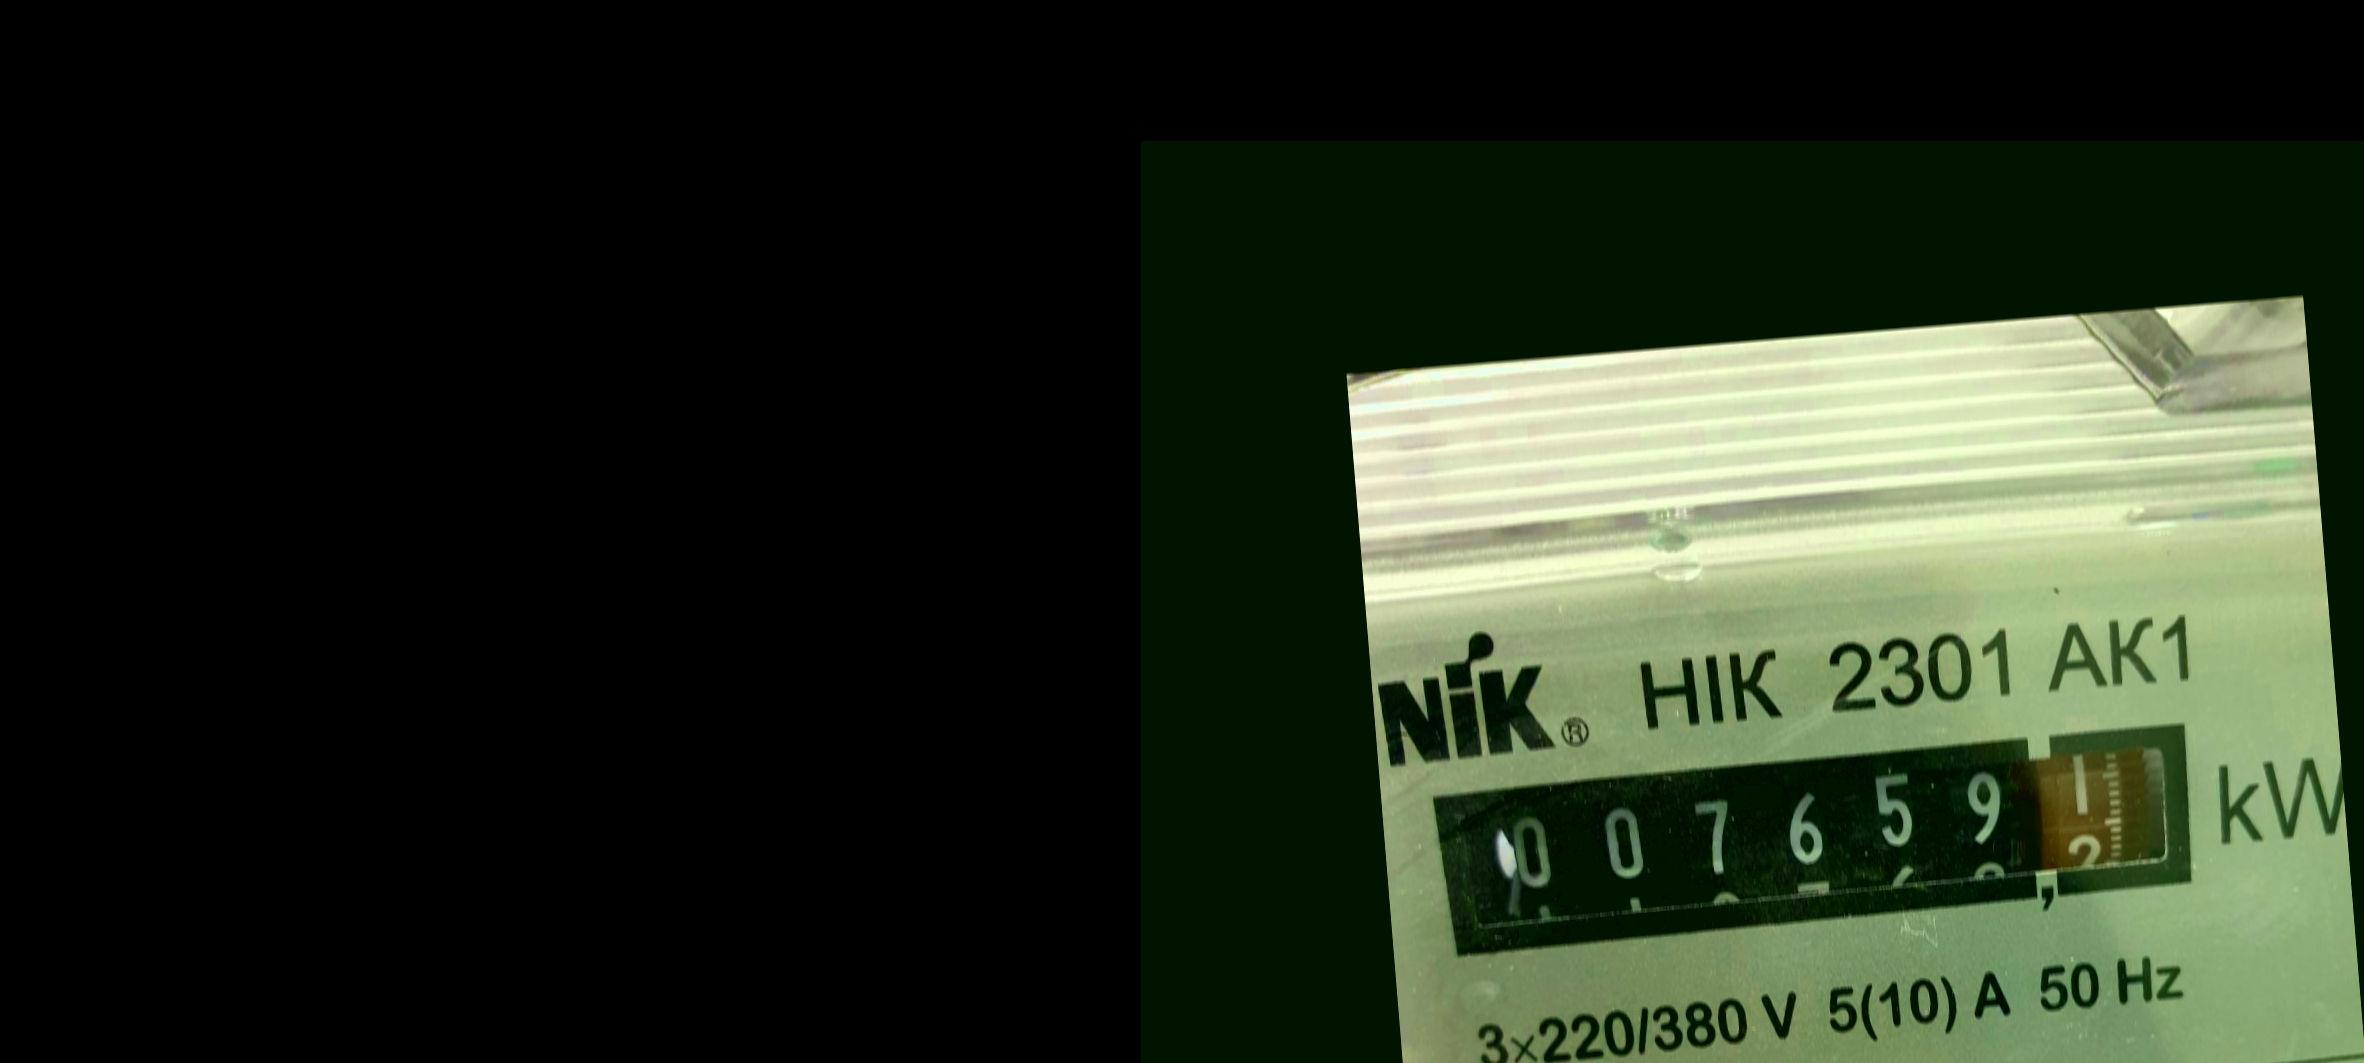0: (1591, 798, 1652, 888), (1503, 807, 1560, 900)
1: (2062, 746, 2102, 823)
5: (1866, 767, 1921, 853)
6: (1775, 784, 1833, 870)
7: (1689, 793, 1737, 882)
9: (1960, 763, 2010, 853)
screen: (1411, 703, 2219, 980)
